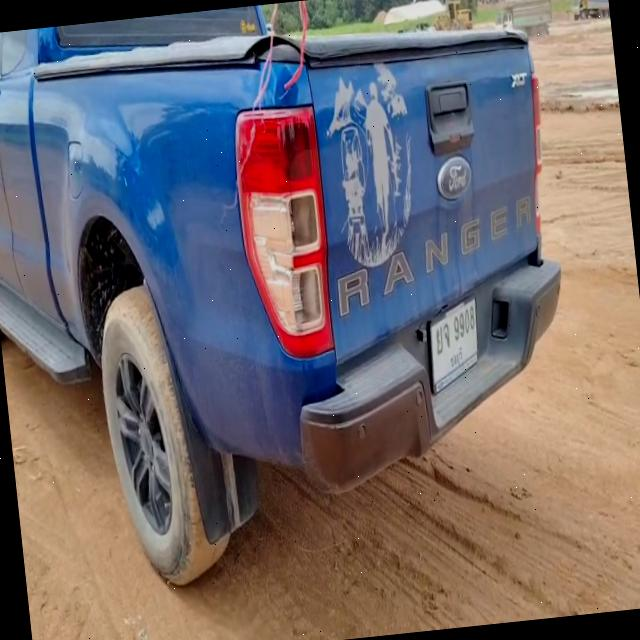Digit: (450, 302, 477, 342)
Licenseplate: (428, 292, 480, 398)
Provincename: (447, 346, 466, 370)
Thaichar: (433, 320, 452, 354)
